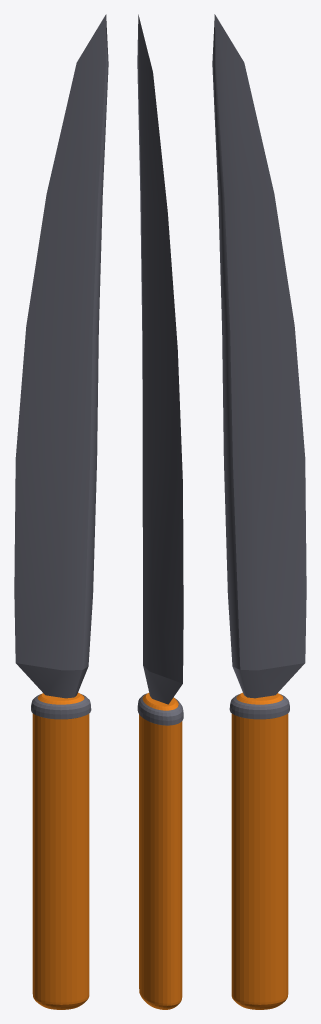
The model's file is OldKnife.glb.
3 views of the same model, side by side, from view 1: azimuth 90°, elevation 25°; view 2: azimuth 210°, elevation 25°; view 3: azimuth 270°, elevation 25° (orthographic).
Parts seen in each view (by area): view 1: Cube, Cylinder, Cylinder.001; view 2: Cube, Cylinder, Cylinder.001; view 3: Cube, Cylinder, Cylinder.001.
Part boxes in pixels (bbox=[...]): Cube: bbox=[14, 14, 108, 698]; Cylinder: bbox=[32, 692, 89, 1009]; Cylinder.001: bbox=[31, 694, 91, 719]; Cube: bbox=[137, 14, 183, 704]; Cylinder: bbox=[139, 693, 182, 1009]; Cylinder.001: bbox=[137, 693, 183, 725]; Cube: bbox=[212, 14, 306, 698]; Cylinder: bbox=[231, 692, 288, 1009]; Cylinder.001: bbox=[229, 694, 289, 719].
Bounding box in the file's own units: 0.0498 × 1.31 × 0.1134.
